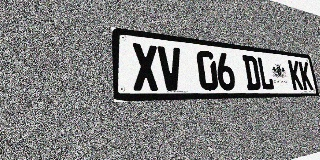0: (196, 50, 219, 90)
6: (215, 52, 236, 90)
D: (242, 55, 261, 90)
K: (288, 60, 304, 90), (298, 61, 313, 90)
L: (256, 57, 275, 90)
V: (157, 46, 184, 91)
X: (131, 43, 160, 91)
